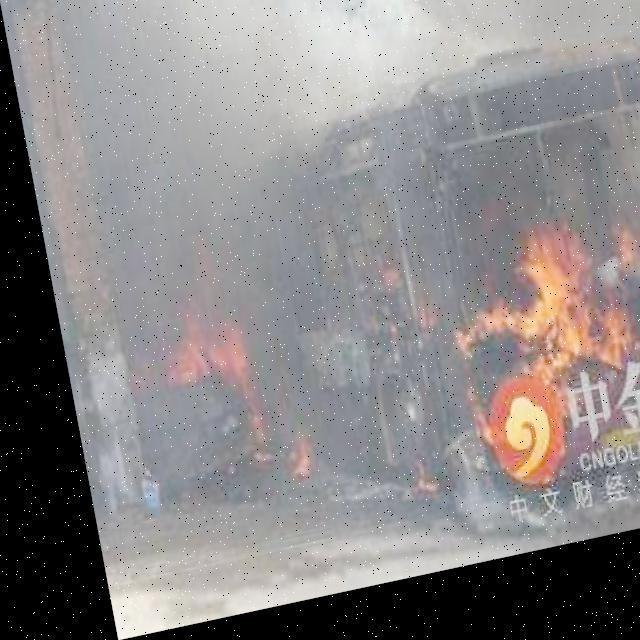Fire: (102, 242, 316, 516), (411, 216, 639, 431)
